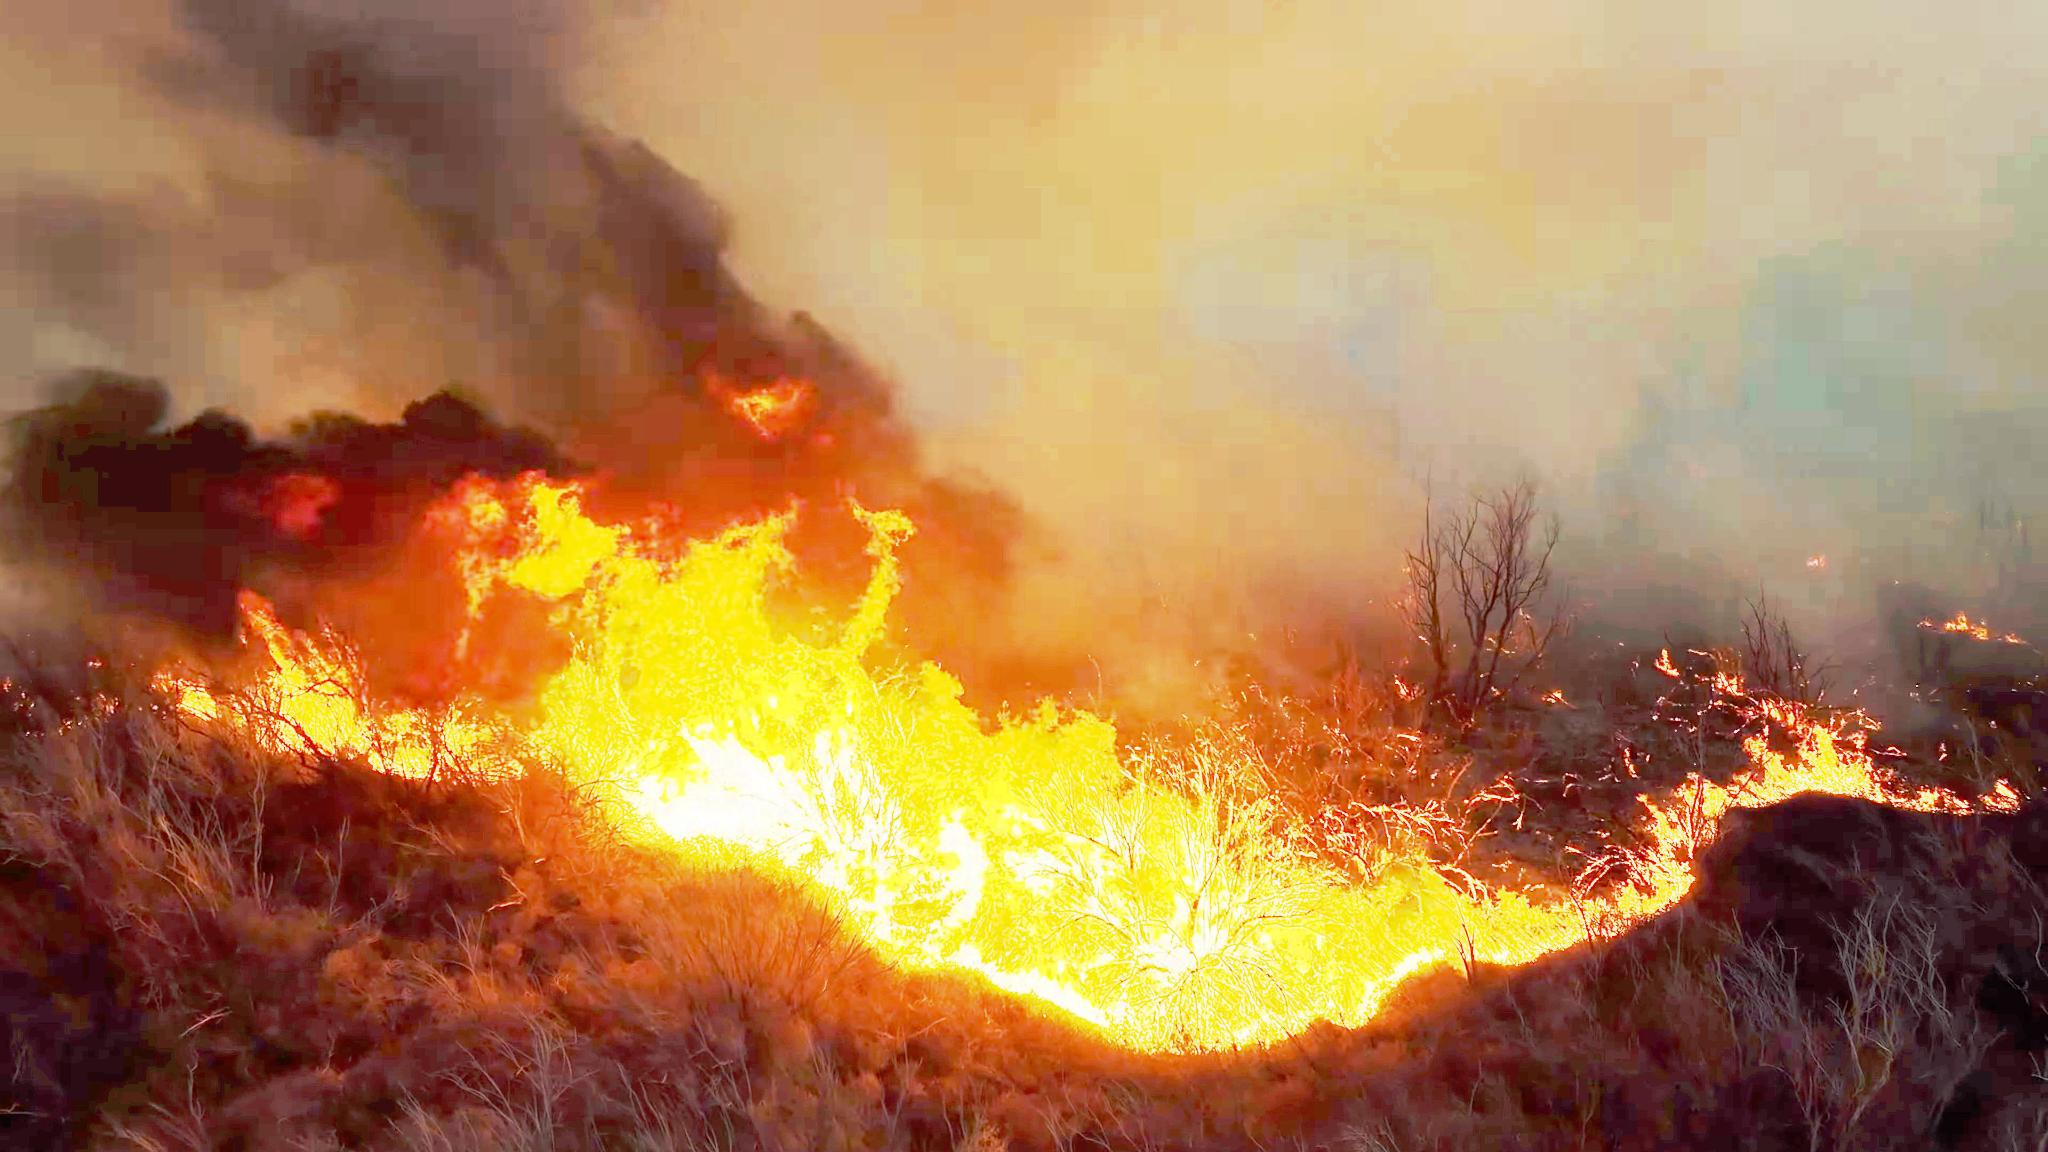fire: (470, 385, 869, 843), (778, 644, 1170, 990), (1031, 726, 1426, 1058), (1421, 774, 1702, 972), (222, 627, 450, 806), (1732, 708, 1899, 817)
smoke: (0, 0, 845, 467)
